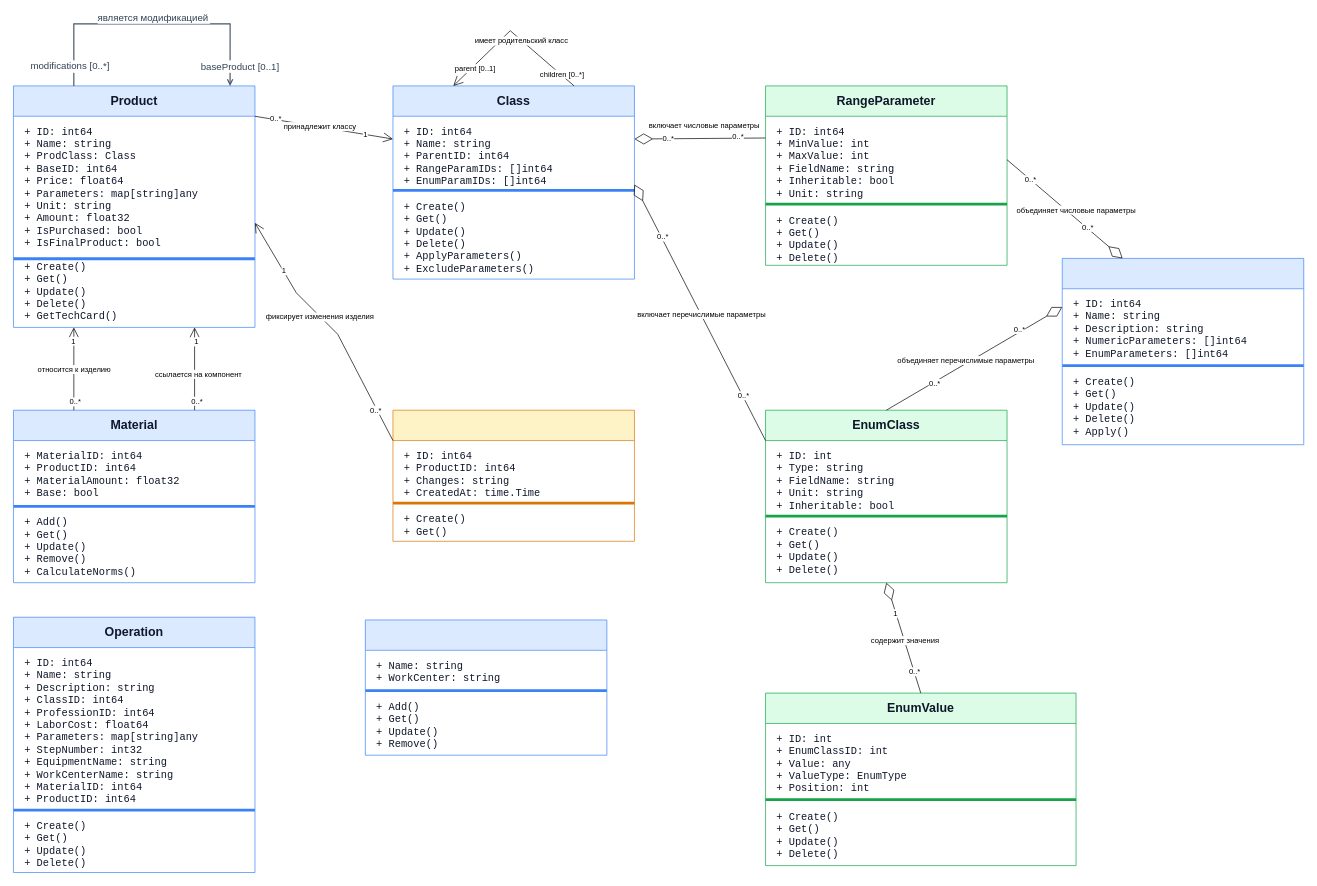
Some shapes in this 1317 by 886 pixel diagram are drawn without their labels. The box of each missing label's shape, as (x1, y1, x2, y2) in pixels:
Aggregate: (1062, 258, 1304, 445)
Equipment: (365, 619, 607, 755)
HistoryRecord: (392, 410, 634, 541)
